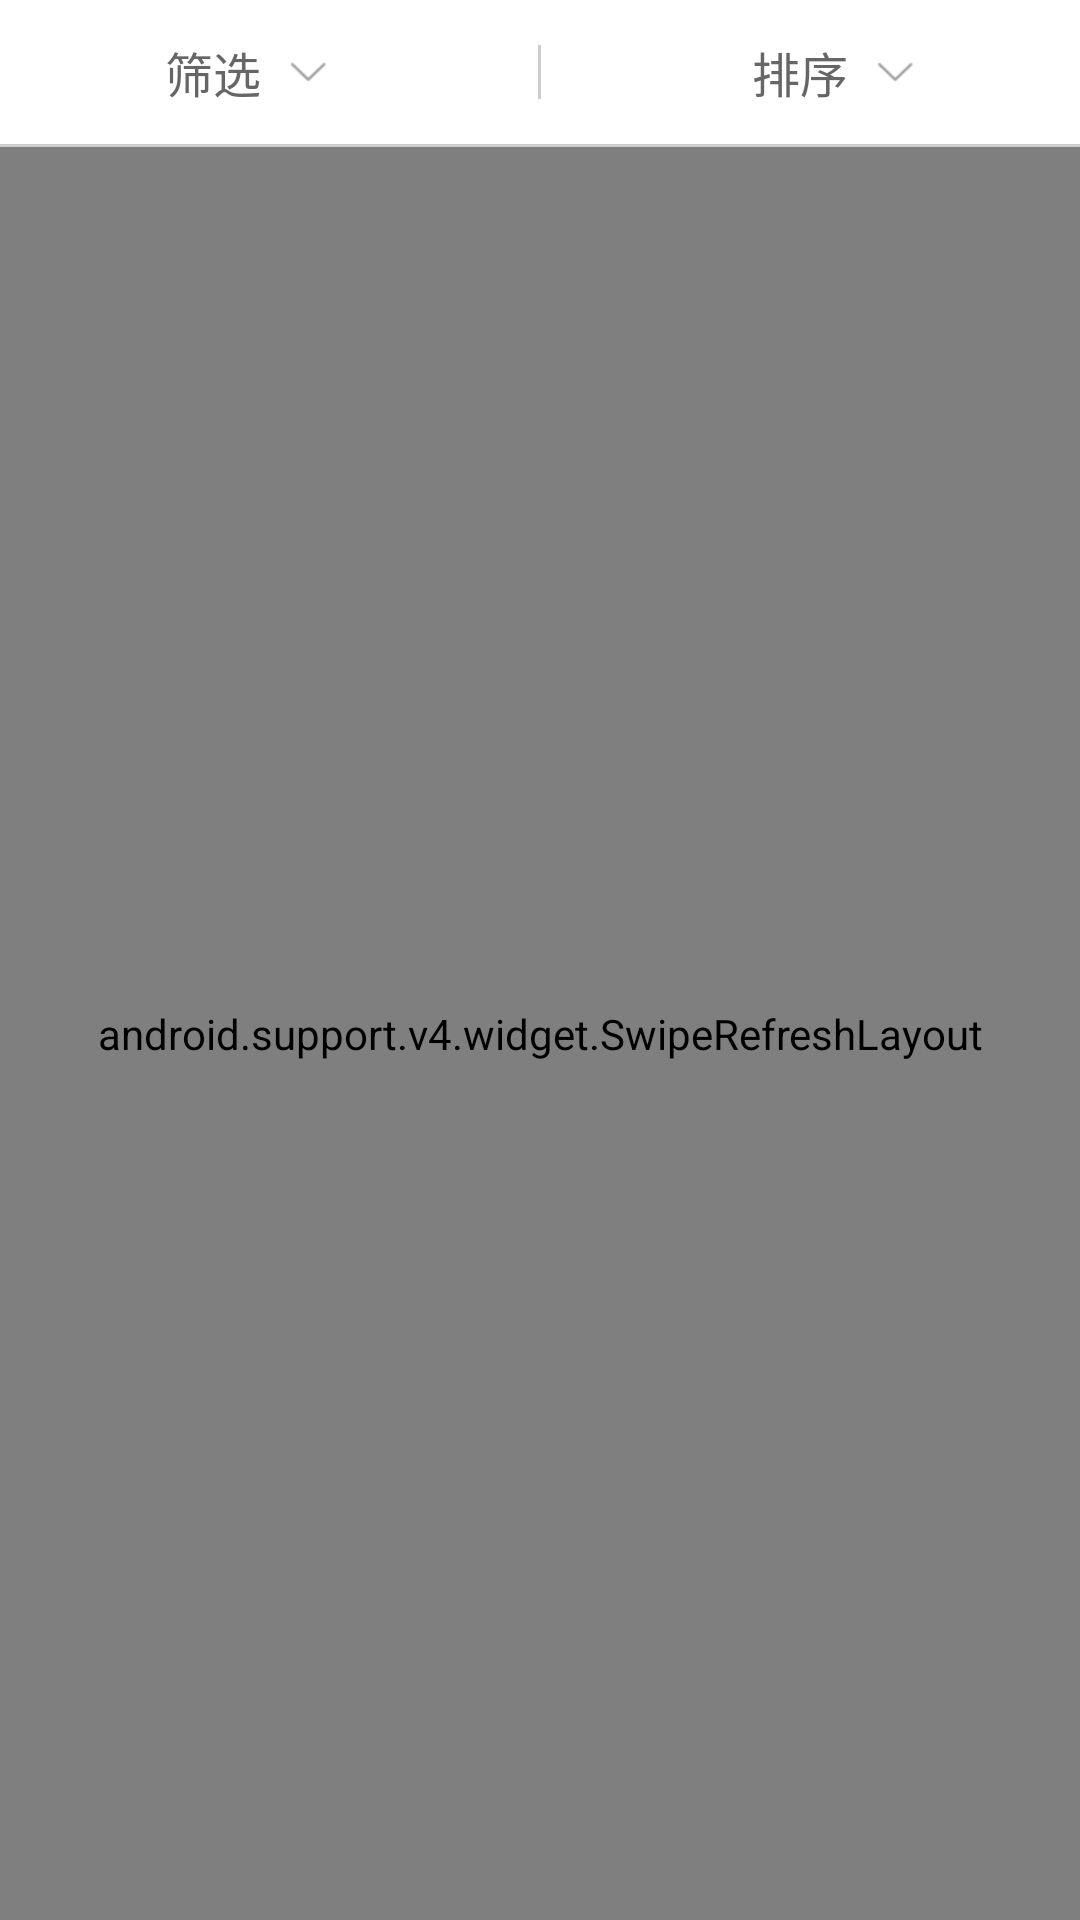

Named icons in this screenshot (1080×1920) and their bounding boxes, (x1, y1, x2, y2):
arrow down: (291, 63, 326, 81), (878, 63, 913, 81)
